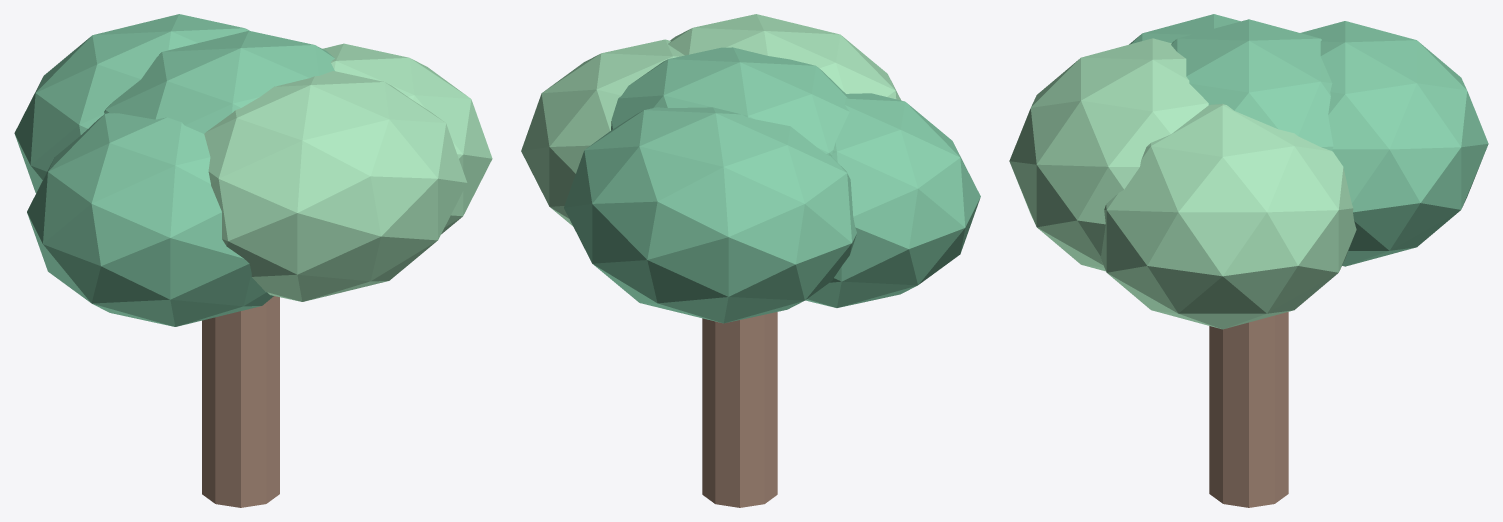
File: tree_oak.glb
3 renders of one model, left to right at view 1: azimuth 30°, elevation 25°; view 2: azimuth 150°, elevation 25°; view 3: azimuth 270°, elevation 25°, orthographic. The views are drawn at different scales.
Parts seen in each view (by area): view 1: tree_oak_4, tree_oak_3, tree_oak_0, tree_oak_5, tree_oak_1, tree_oak_2; view 2: tree_oak_5, tree_oak_3, tree_oak_0, tree_oak_1, tree_oak_2, tree_oak_4; view 3: tree_oak_2, tree_oak_5, tree_oak_4, tree_oak_0, tree_oak_1, tree_oak_3.
Part boxes in pixels (bbox=[...]): tree_oak_4: bbox=[204, 71, 467, 301]; tree_oak_3: bbox=[27, 113, 273, 326]; tree_oak_0: bbox=[202, 296, 279, 507]; tree_oak_5: bbox=[14, 14, 249, 192]; tree_oak_1: bbox=[104, 30, 334, 133]; tree_oak_2: bbox=[322, 43, 492, 234]; tree_oak_5: bbox=[564, 107, 856, 323]; tree_oak_3: bbox=[805, 93, 980, 307]; tree_oak_0: bbox=[702, 312, 777, 507]; tree_oak_1: bbox=[611, 47, 849, 156]; tree_oak_2: bbox=[521, 39, 684, 225]; tree_oak_4: bbox=[668, 14, 901, 100]; tree_oak_2: bbox=[1100, 103, 1356, 329]; tree_oak_5: bbox=[1301, 21, 1488, 266]; tree_oak_4: bbox=[1009, 38, 1208, 271]; tree_oak_0: bbox=[1209, 312, 1288, 507]; tree_oak_1: bbox=[1171, 19, 1333, 150]; tree_oak_3: bbox=[1129, 14, 1240, 44].
Bounding box in the file's own units: 2.94 × 2.84 × 2.74.
